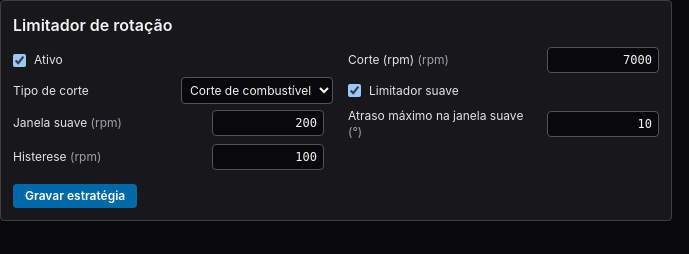
Test case: formulários por subtipo › valor inválido mostra o erro junto ao campo e não grava
The width and height of the screenshot is (689, 254).
Replace the text in the field labelled "Corte (rpm) (rpm)" with "13000" at (603, 60), box [547,47,659,73]
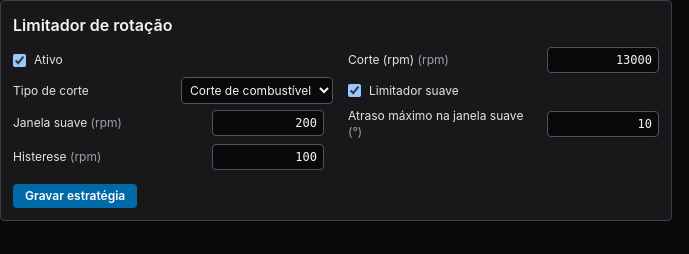
Click the button "Gravar estratégia".
click(75, 196)  # box [13,184,137,208]
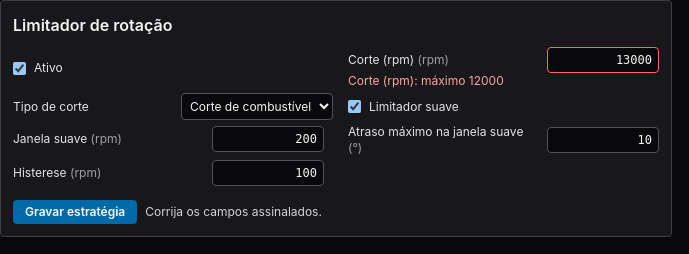
Check: the message "Corte (rpm): máximo 12000" is shown, box [348,73,504,88]
